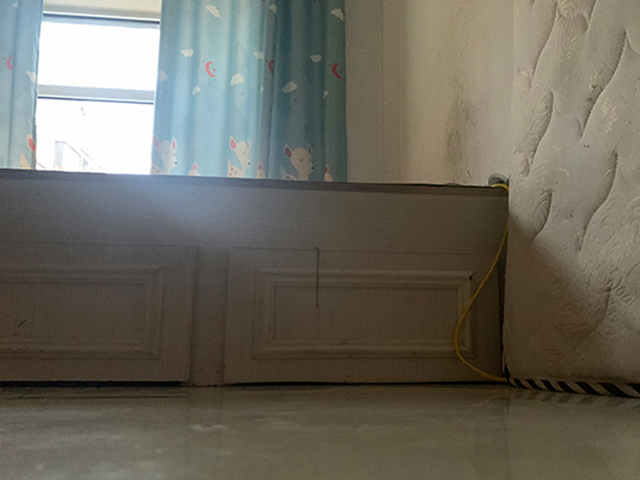bed: (1, 166, 504, 386)
curtain: (144, 1, 346, 185)
wire: (455, 182, 509, 383)
